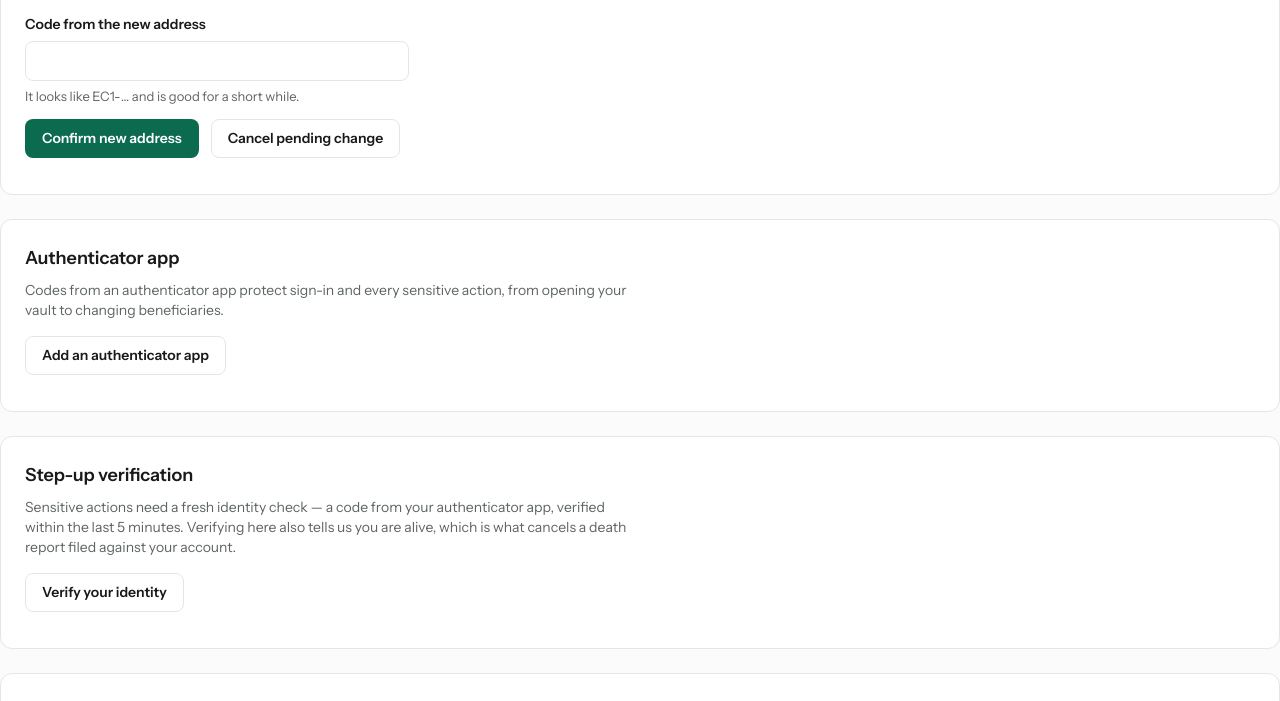
Test: SecurityPanel › offers ONE authenticator label, because this session cannot tell which is true
(page scrolled)
Step 1. Click the button "Add an authenticator app" → (126, 355), box [25, 336, 226, 374]
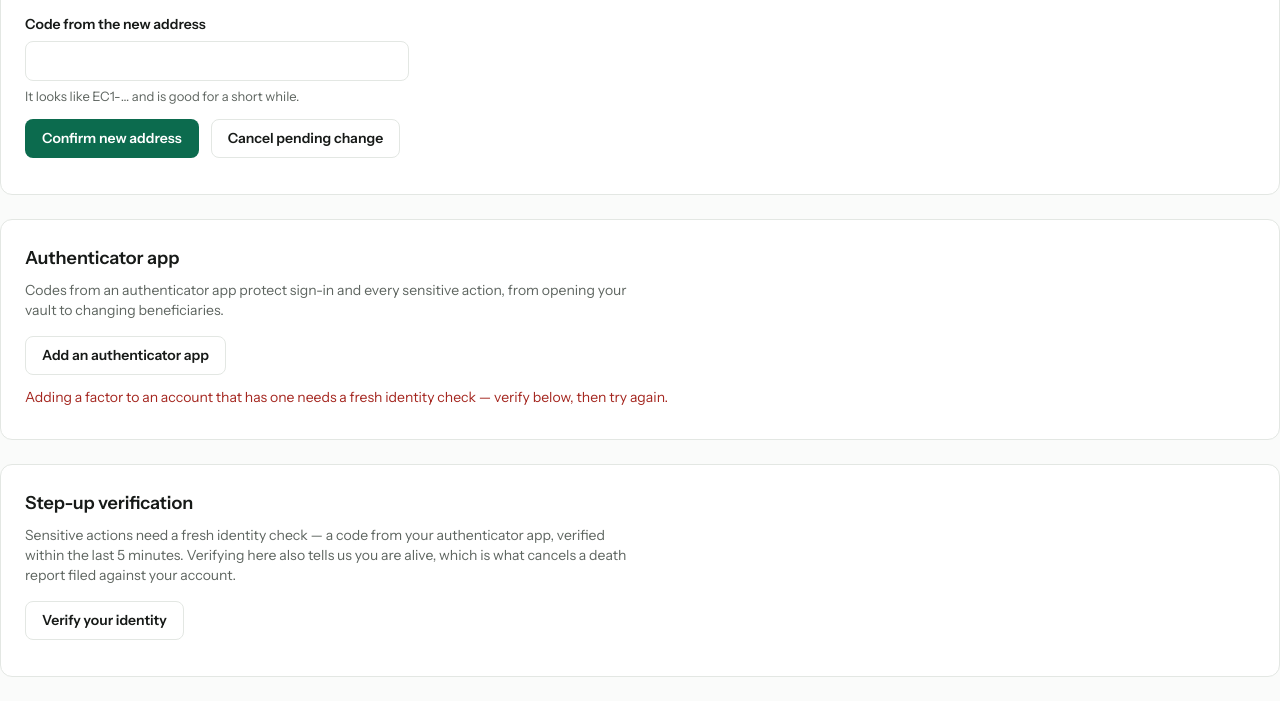
expect the text "Adding a factor to an account that has one needs a fresh" is shown: met, box [25, 388, 668, 406]
